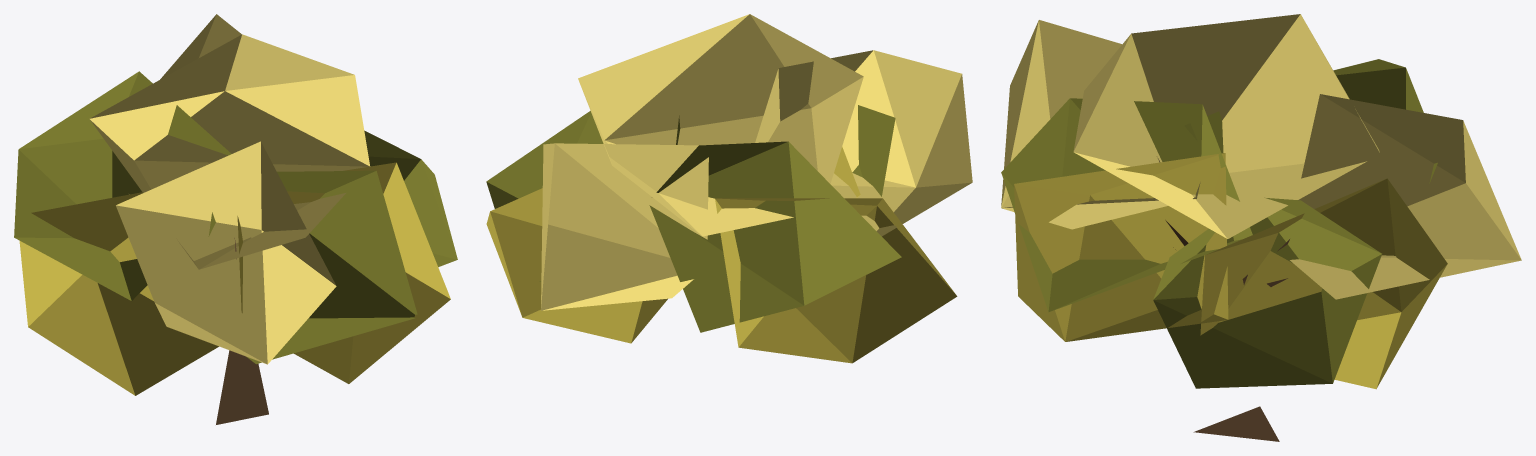
The model's file is tree_oak_4_lod2.glb.
The picture shows the model from 3 angles, left to right: view 1: azimuth 30°, elevation 25°; view 2: azimuth 150°, elevation 25°; view 3: azimuth 270°, elevation 25°; orthographic projection. The views are drawn at different scales.
Parts seen in each view (by area): view 1: tree_oak_4_lod2; view 2: tree_oak_4_lod2; view 3: tree_oak_4_lod2.
Boxes of the visible parts, box(x1,y1,x2,y2) form: tree_oak_4_lod2: box(14, 14, 457, 424); tree_oak_4_lod2: box(486, 14, 972, 363); tree_oak_4_lod2: box(1001, 14, 1521, 441).
Size of the model in its own units: 8.12 by 7.08 by 7.74.
